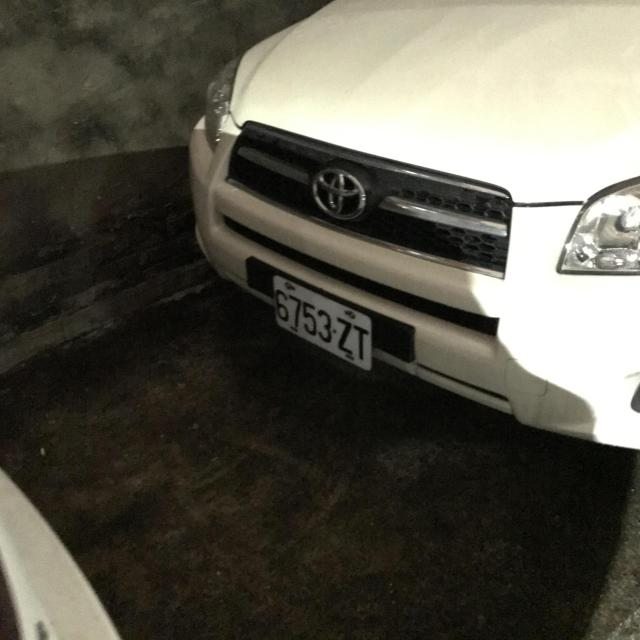W: (264, 266, 379, 377)
